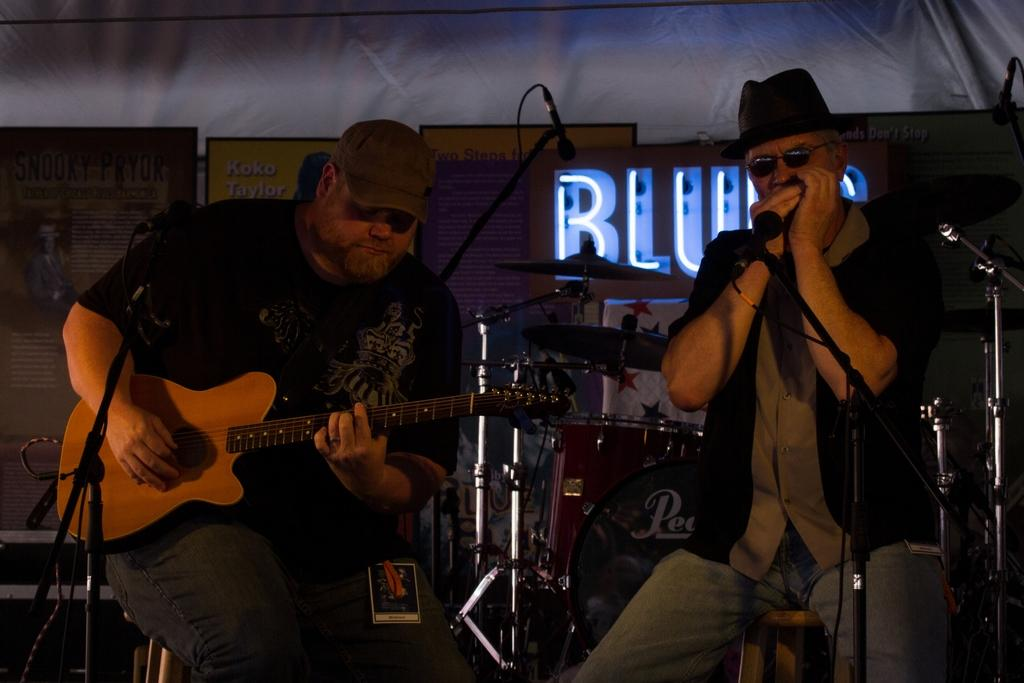Hat: (711, 66, 858, 168), (332, 114, 432, 224)
